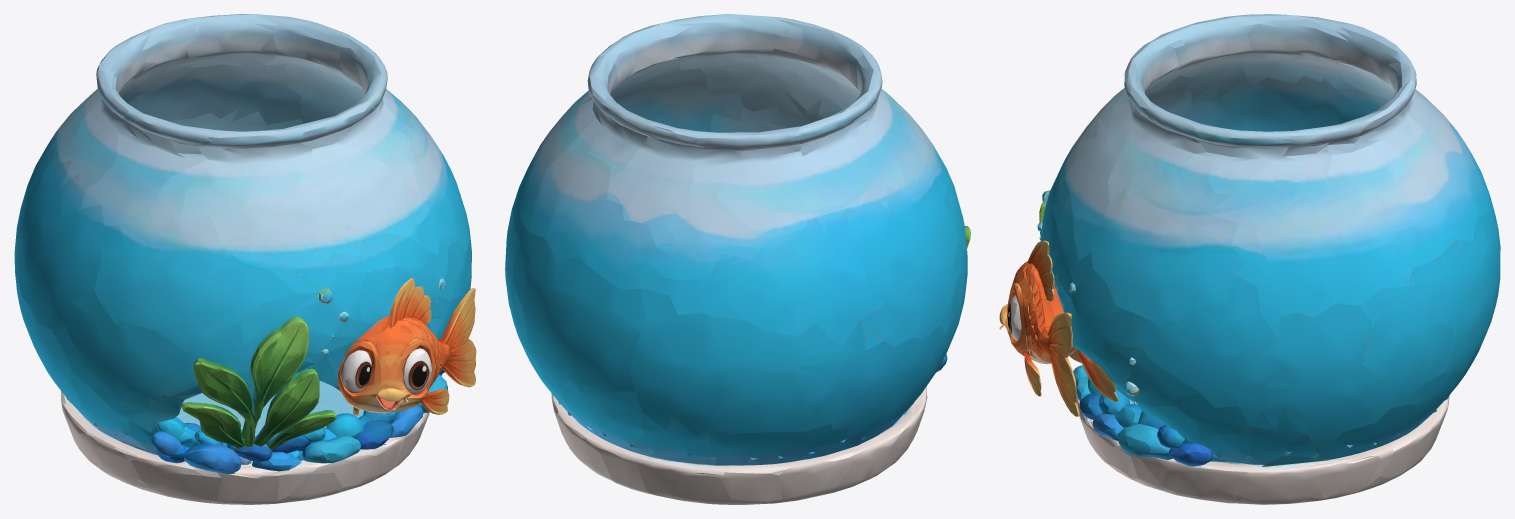
Rendered from fishbowl_helmet.glb.
3 renders of one model, left to right at view 1: azimuth 30°, elevation 25°; view 2: azimuth 150°, elevation 25°; view 3: azimuth 270°, elevation 25°, orthographic.
Parts seen in each view (by area): view 1: Mesh_0; view 2: Mesh_0; view 3: Mesh_0.
Part boxes in pixels (x1=…): Mesh_0: x1=14, y1=14, x2=476, y2=504; Mesh_0: x1=505, y1=14, x2=970, y2=504; Mesh_0: x1=999, y1=14, x2=1500, y2=504.
Size of the model in its own units: 0.9143 by 0.7921 by 1.
1 material, 1 textured.
